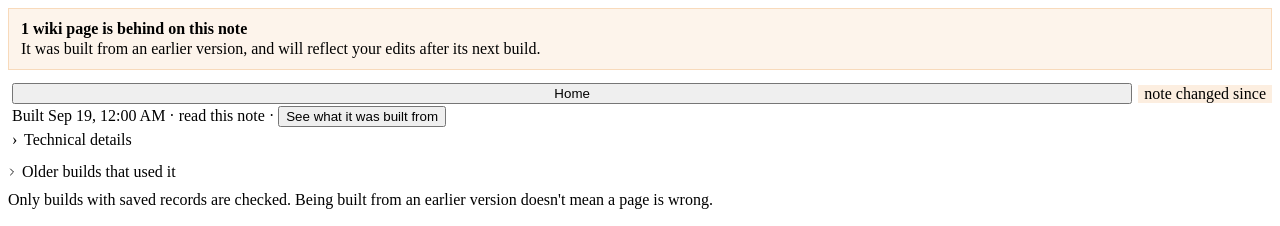
it: rejects a replacement vault before inspecting a loaded candidate
This screenshot has width=1280, height=226.
Click the button "See what it was built from". click: point(362, 116)
box: [278,106,446,127]
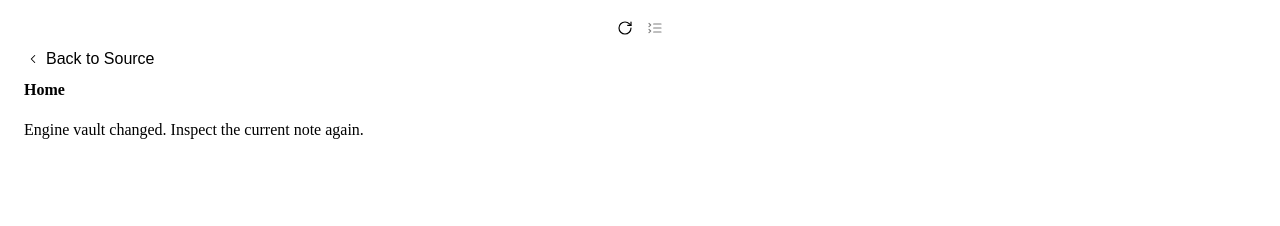
Now the message shows "vault changed", box [24,121,364,138]
